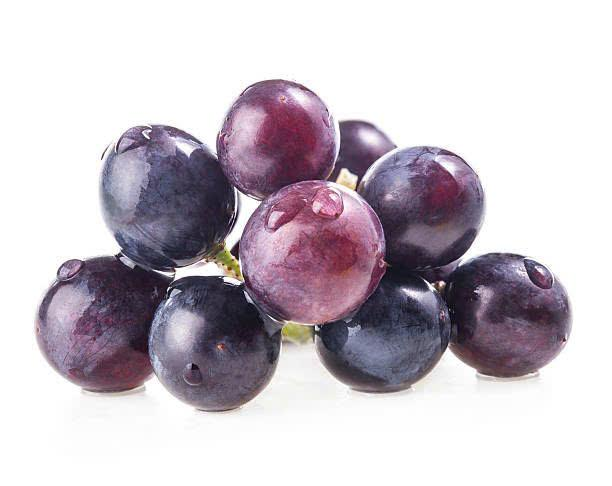grape: (34, 77, 578, 421), (221, 173, 388, 322), (95, 115, 241, 275), (434, 244, 576, 396), (146, 269, 282, 408), (37, 254, 152, 397), (361, 139, 488, 268), (215, 79, 348, 188)
